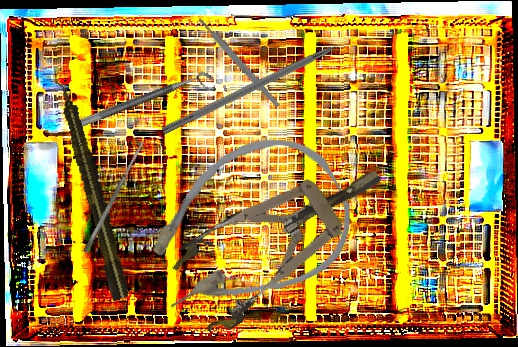Cannula: (120, 114, 371, 342)
Fixation Ring: (71, 68, 218, 142)
Handpiece: (51, 77, 133, 302)
Hook Surgical: (160, 28, 367, 137)
Scalpel Handle: (196, 16, 282, 109)
Spatula Surgical: (82, 140, 146, 254)
Speculum: (162, 135, 405, 341)
